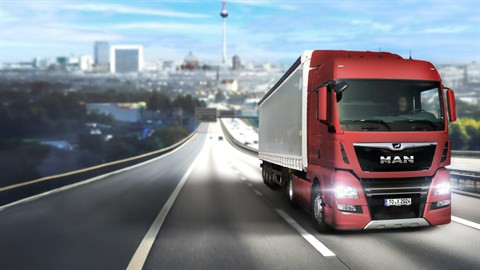truck: (257, 48, 458, 234)
